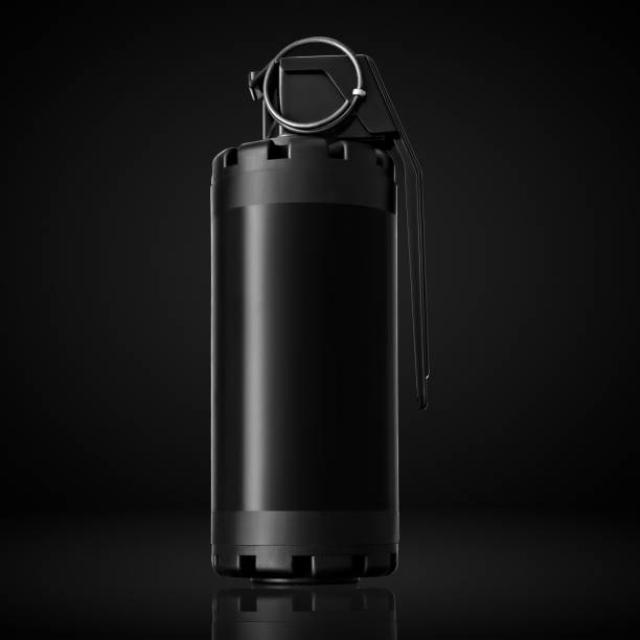grenade: (192, 28, 453, 606)
